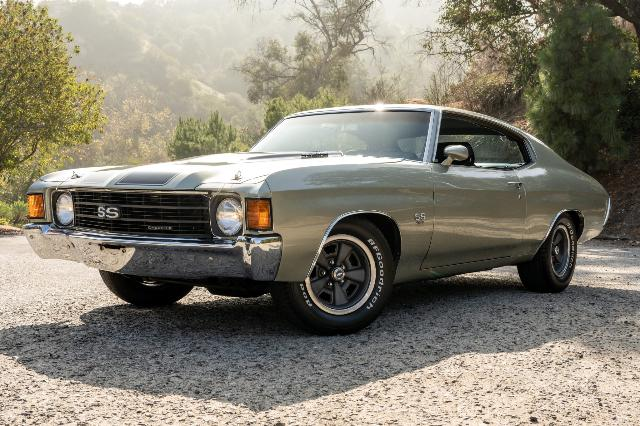chevelle-1972: (24, 105, 610, 334)
